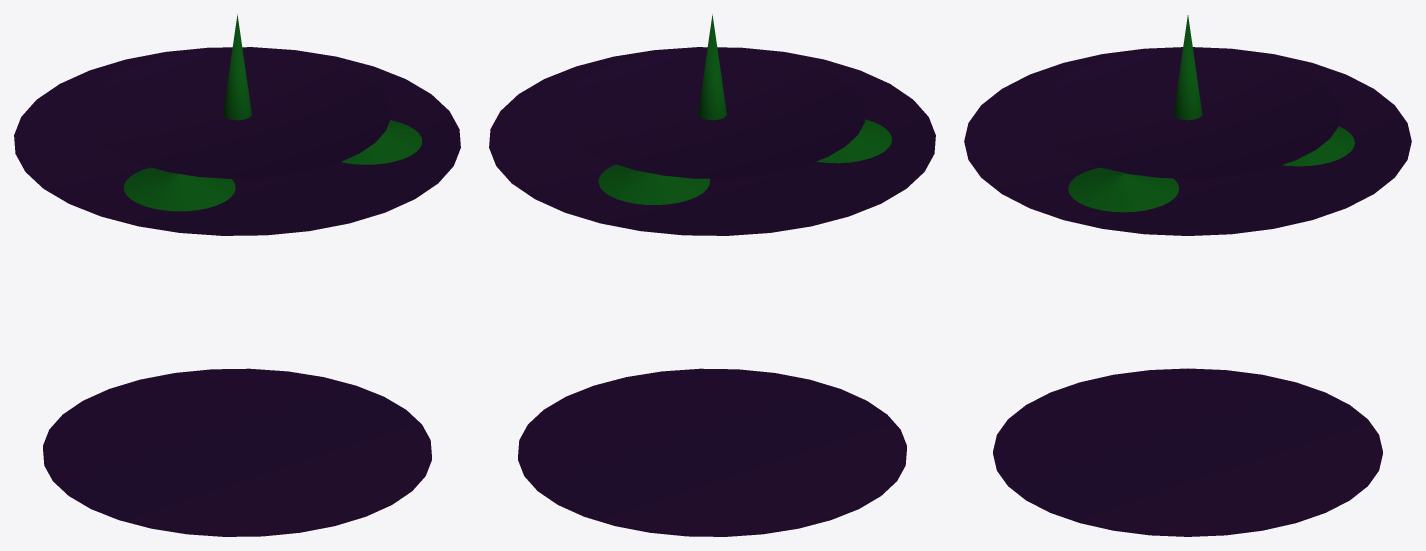
File: zombi_sponer.glb
The picture shows the model from 3 angles, left to right: view 1: azimuth 30°, elevation 25°; view 2: azimuth 150°, elevation 25°; view 3: azimuth 270°, elevation 25°; orthographic projection.
Visible parts, largest first — view 1: Cylinder, Cone, Cone.004, Cone.001, Cone.003, Cone.005; view 2: Cylinder, Cone, Cone.004, Cone.002, Cone.005, Cone.001; view 3: Cylinder, Cone, Cone.004, Cone.003, Cone.005, Cone.002.
Part boxes in pixels (x1,y1,x2,y2): Cylinder: (43,368,431,536); Cone: (14,47,460,235); Cone.004: (84,49,390,178); Cone.001: (123,167,235,211); Cone.003: (341,120,422,164); Cone.005: (223,14,251,120); Cylinder: (518,368,906,536); Cone: (489,47,935,235); Cone.004: (559,49,865,178); Cone.002: (598,164,709,204); Cone.005: (698,14,726,120); Cone.001: (816,119,891,163); Cylinder: (993,368,1382,536); Cone: (964,47,1411,235); Cone.004: (1034,49,1341,178); Cone.003: (1068,167,1178,212); Cone.005: (1173,15,1202,120); Cone.002: (1282,126,1354,166).
Bounding box in the file's own units: 6.27 × 6.95 × 6.27.
